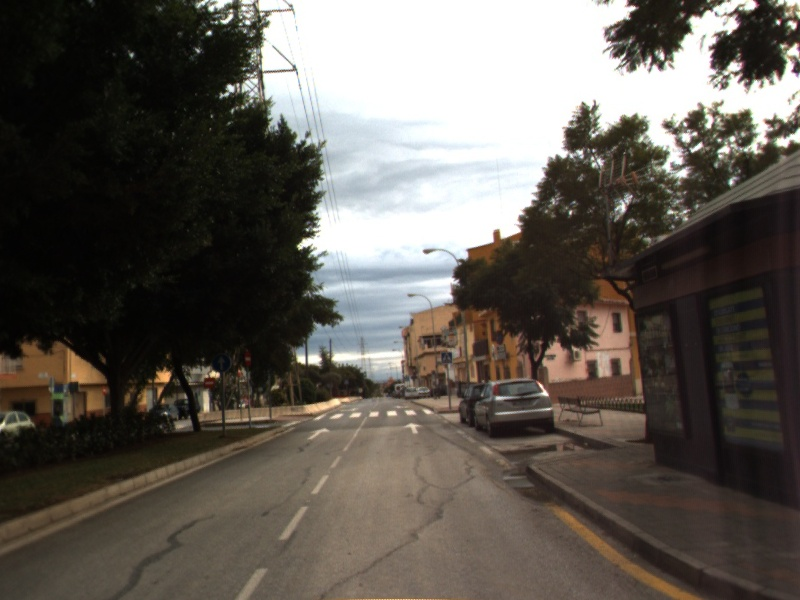STRAIGHT: (305, 425, 333, 442), (401, 420, 425, 436)
